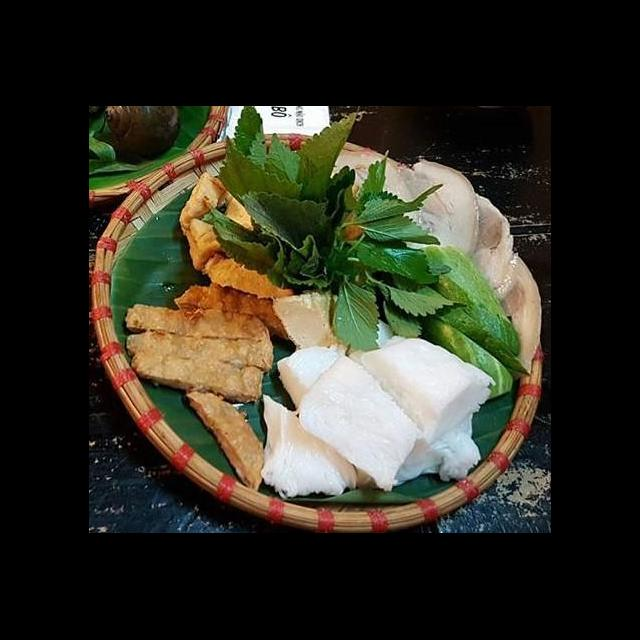bun: (287, 350, 435, 492), (342, 318, 497, 448), (251, 338, 368, 502)
bun dau: (112, 148, 529, 531)
cha com: (117, 298, 282, 408), (185, 386, 278, 494), (169, 276, 291, 338)
dau hu: (174, 168, 298, 306)
thit heo: (342, 150, 485, 268), (464, 185, 542, 372)
